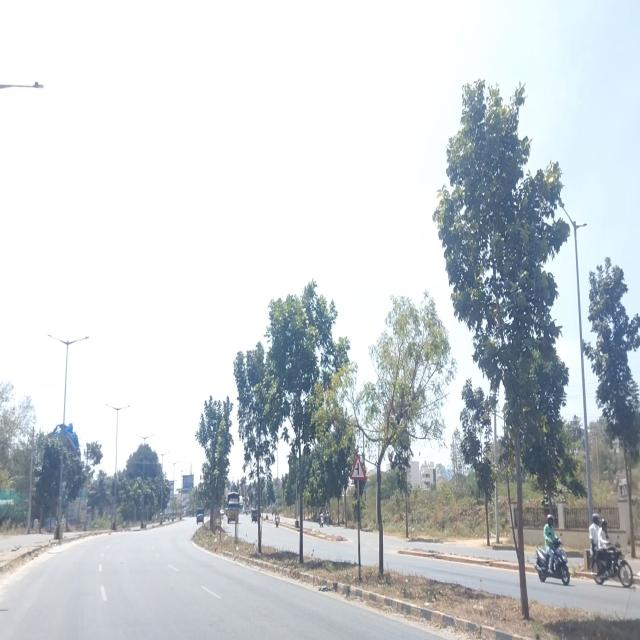bien_cam: (350, 453, 365, 480)
